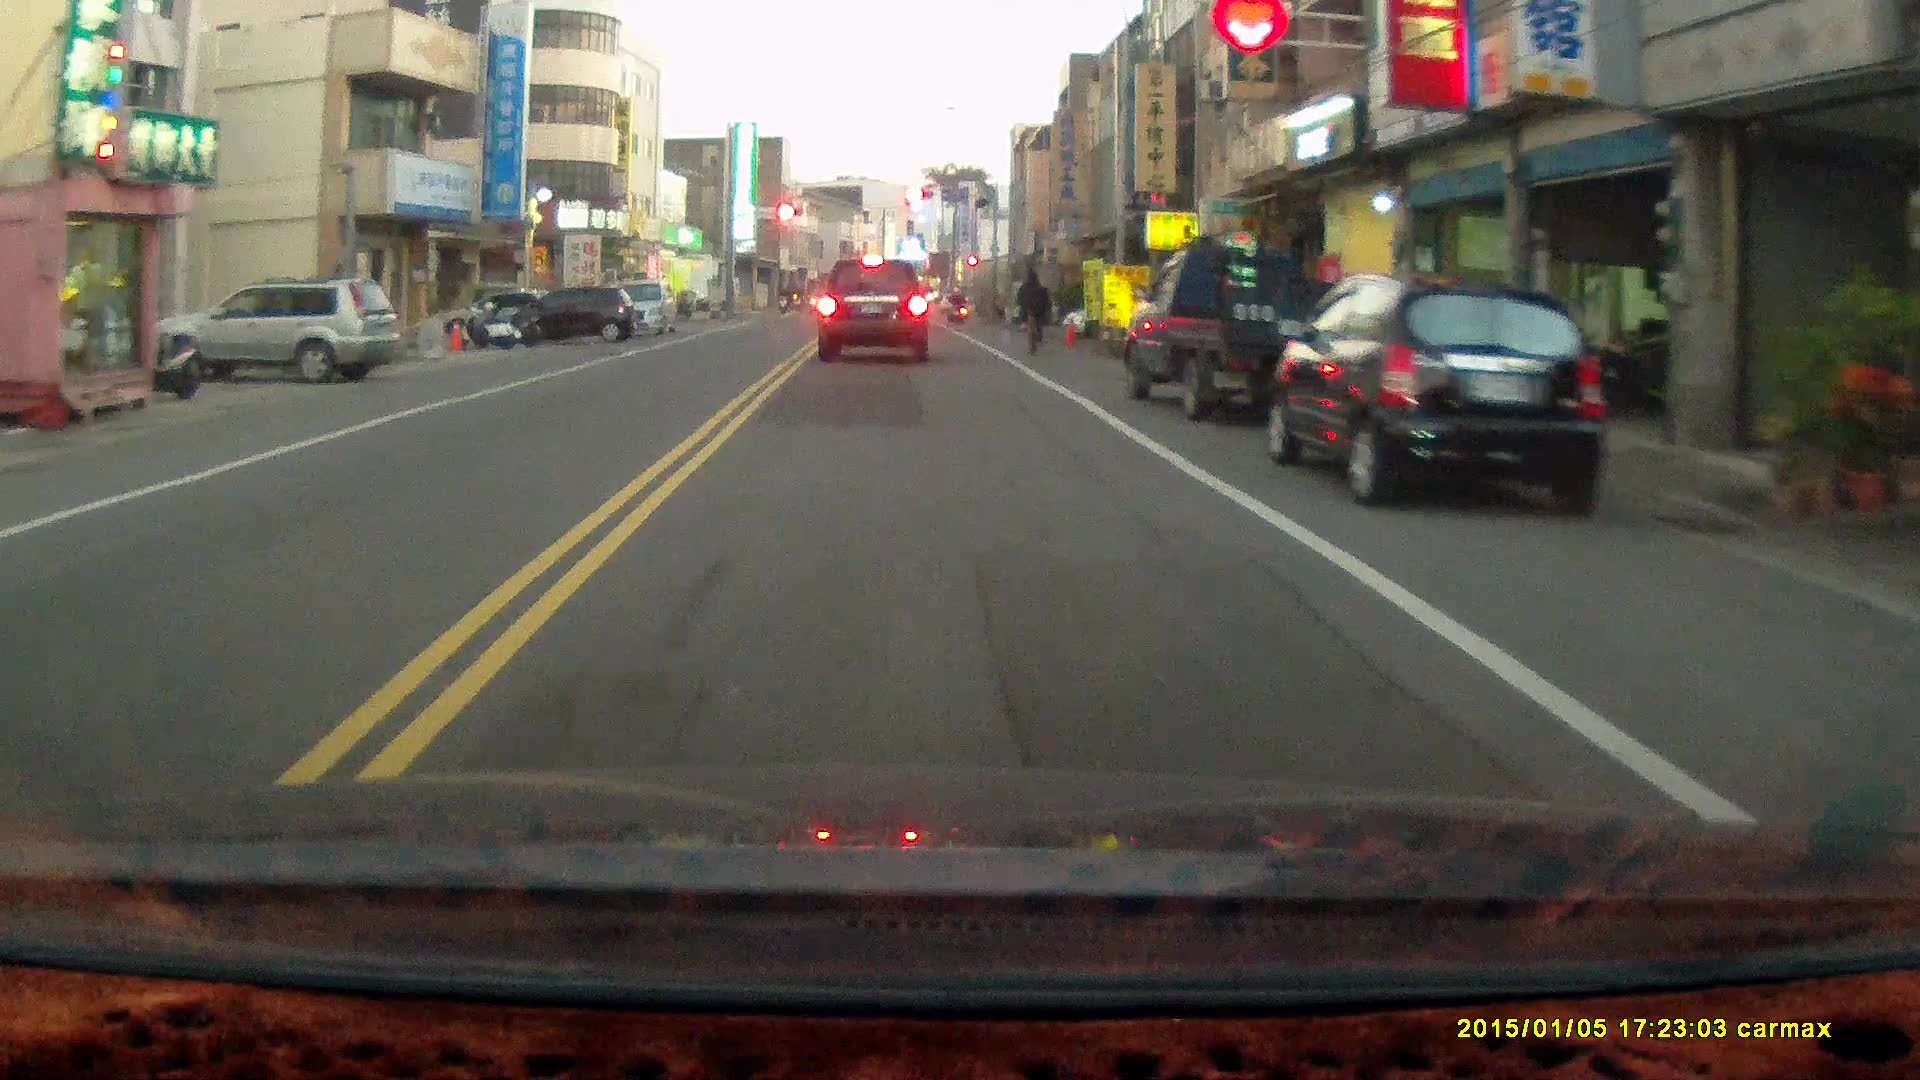rider: (1012, 266, 1052, 357)
vehicle: (1268, 271, 1612, 512), (1121, 244, 1346, 418), (154, 276, 404, 384), (816, 256, 932, 365), (508, 284, 641, 343), (596, 274, 679, 340)
